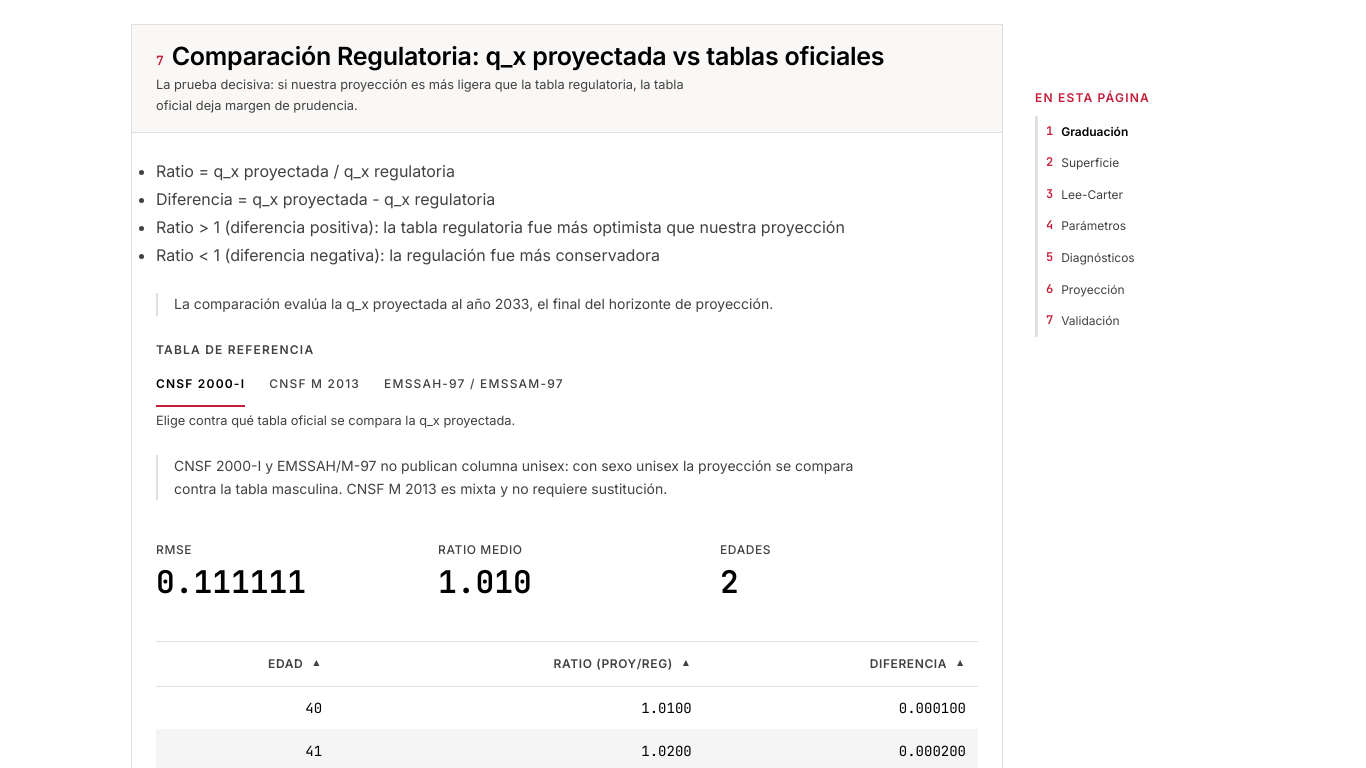
Mortalidad › shows each reference table its own comparison numbers when its tab is selected
(page scrolled)
Check: the text "0.111111" is shown, box [156,561,306,602]
Check: the text "0.222222" is not shown
Step 1. Click the radio button labelled "CNSF M 2013" → (315, 385), box [269,363,360,407]
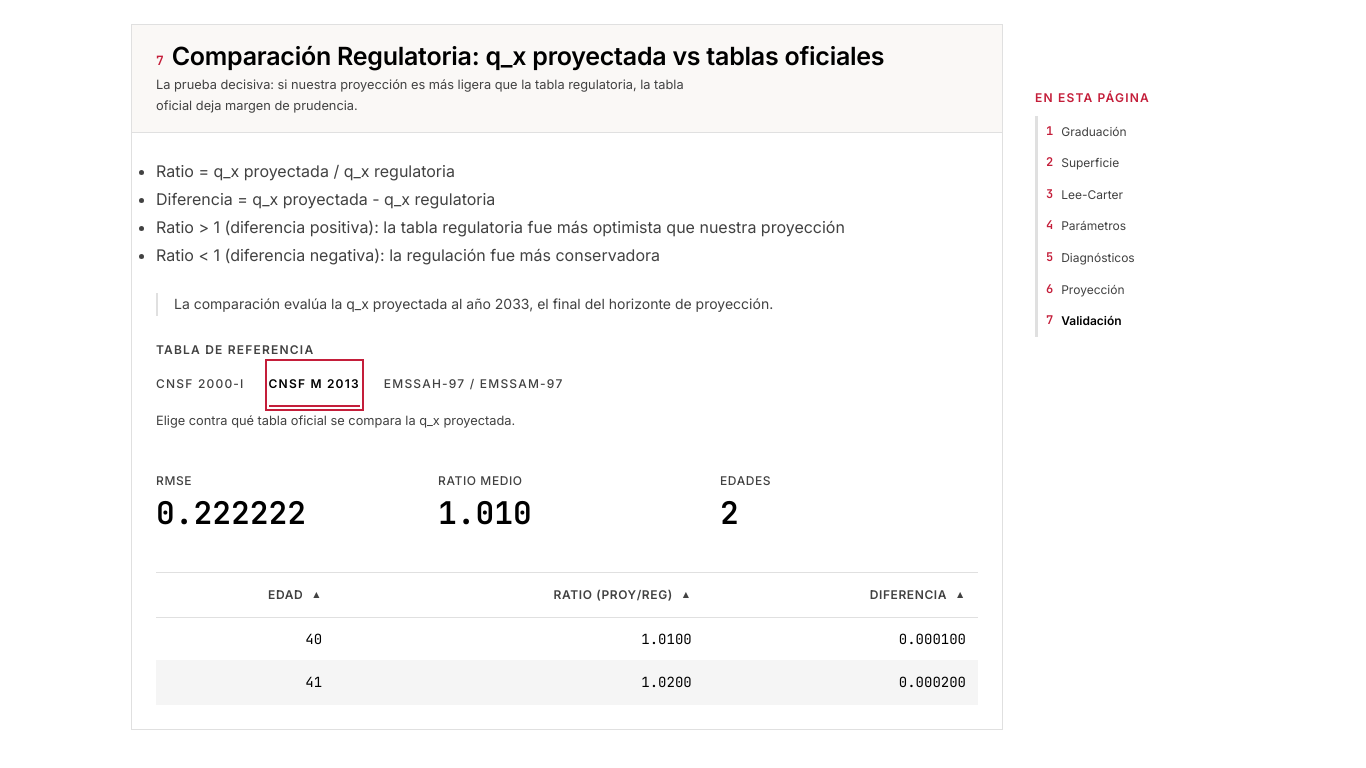
Check: the text "0.222222" is shown, box [156,492,306,533]
Check: the text "0.111111" is gone
Step 2. Click the radio button labelled "EMSSAH-97 / EMSSAM-97" → (474, 385), box [384,363,564,407]
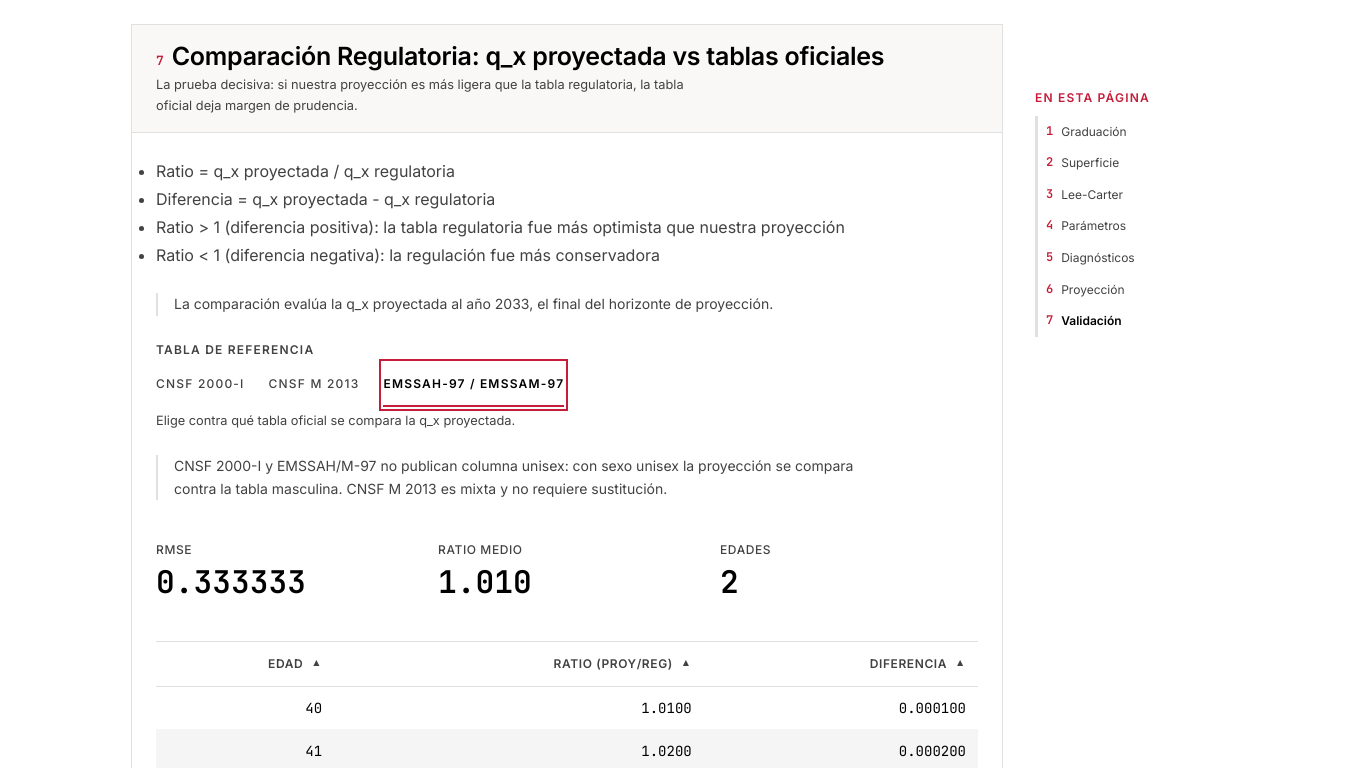
Check: the text "0.333333" is shown, box [156,561,306,602]
Check: the text "0.222222" is gone
